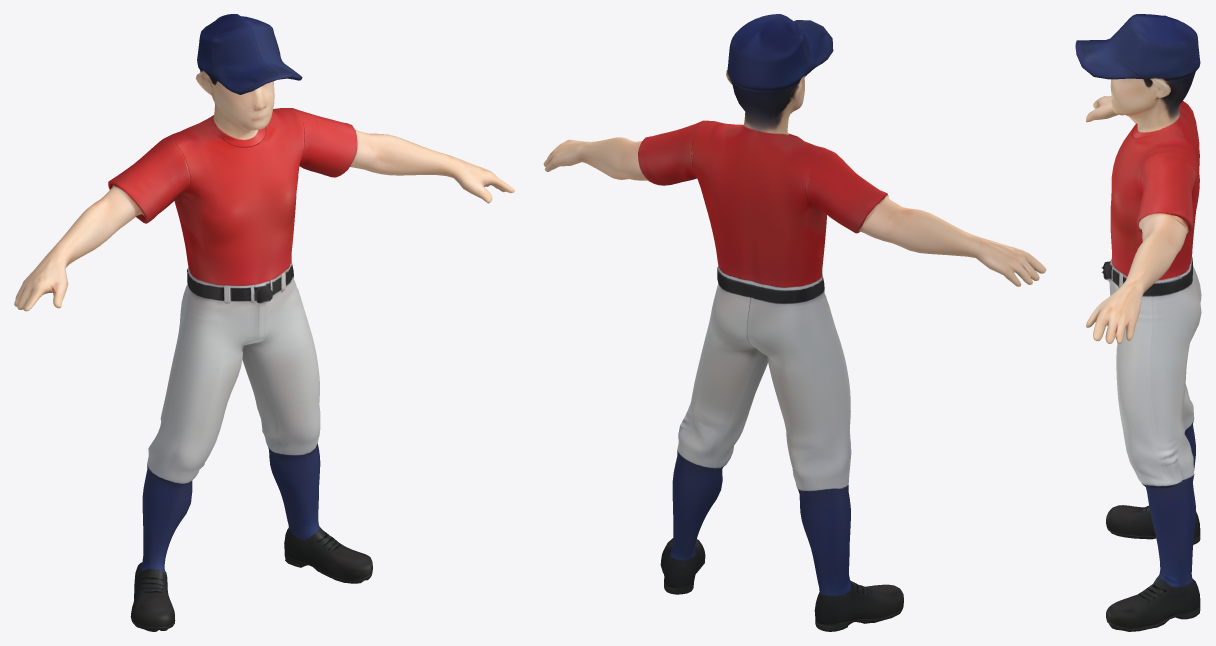
Rendered from DD_Player_M_Athletic_v01.glb.
3 views of the same model, side by side, from view 1: azimuth 30°, elevation 25°; view 2: azimuth 150°, elevation 25°; view 3: azimuth 270°, elevation 25° (orthographic). The views are drawn at different scales.
Visible parts, largest first — view 1: model; view 2: model; view 3: model.
Part boxes in pixels (<box>): model: <box>14,14,514,631</box>; model: <box>543,14,1046,631</box>; model: <box>1075,14,1201,631</box>.
Size of the model in its own units: 1.7 by 1.9 by 0.3863.
1 material, 1 textured.
